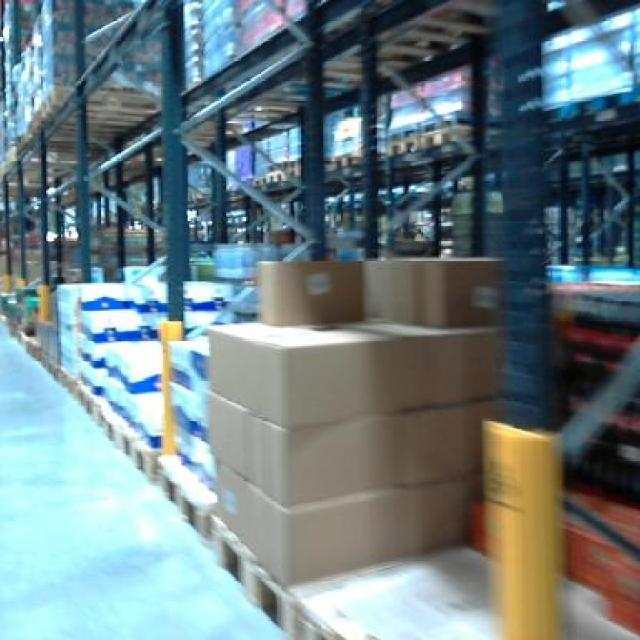ground: (0, 311, 298, 638)
